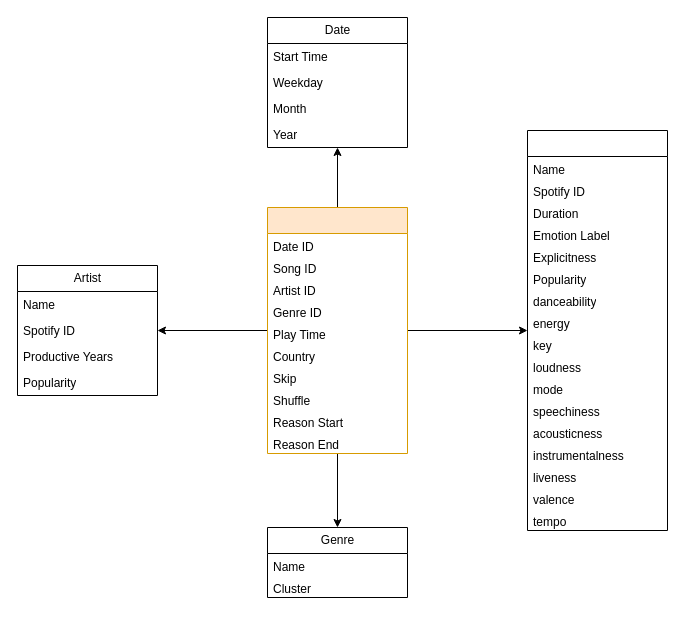
Some shapes in this 685 by 618 pixel diagram are drawn without their labels. Each missing label, with the box of its shape:
Song: (526, 130, 668, 530)
Stream: (266, 206, 408, 454)
